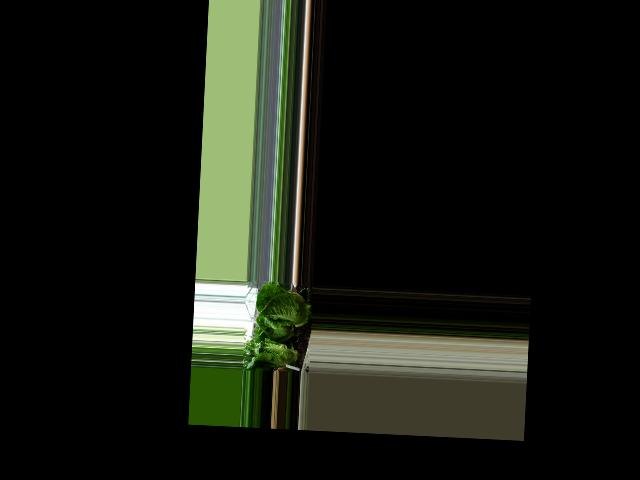lettuce: (247, 336, 305, 369)
